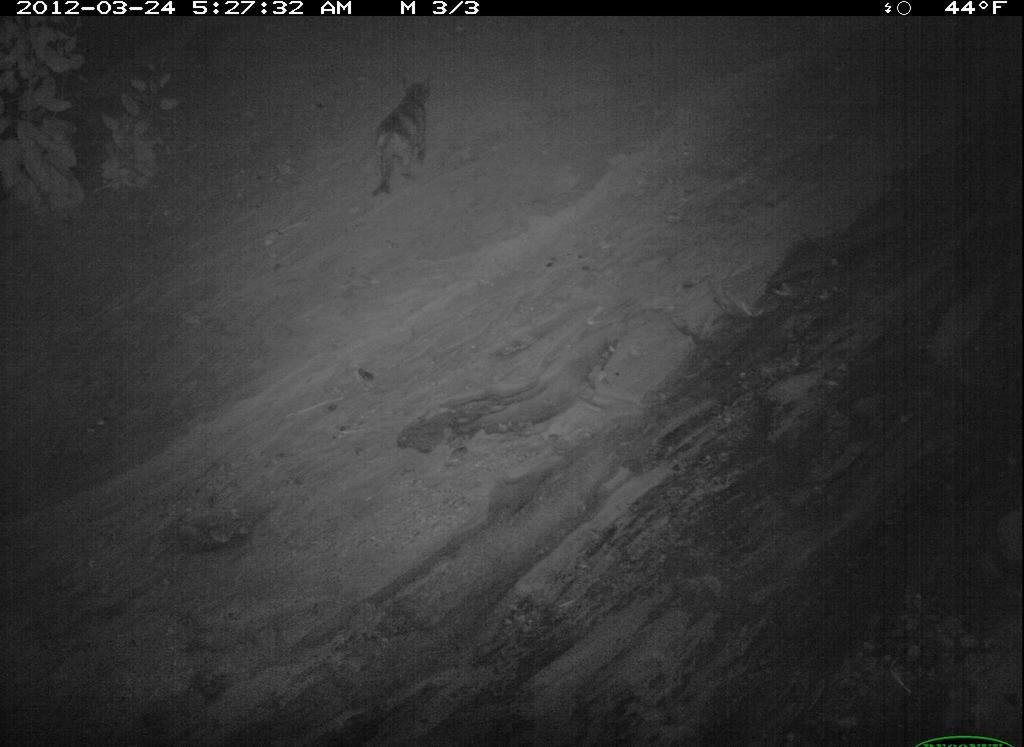cat: (728, 144, 881, 411)
